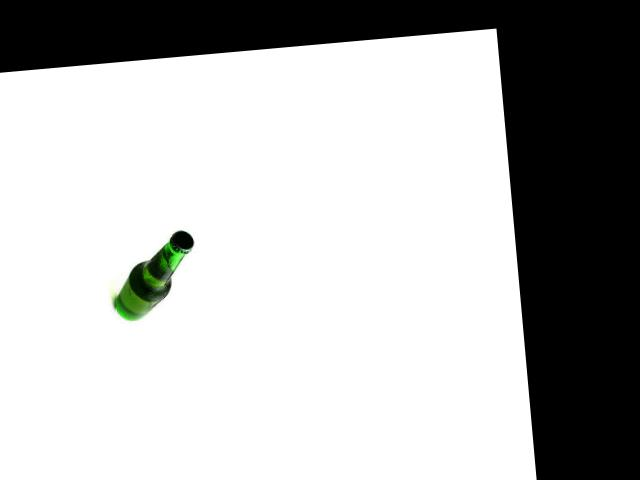beer: (108, 229, 199, 322)
